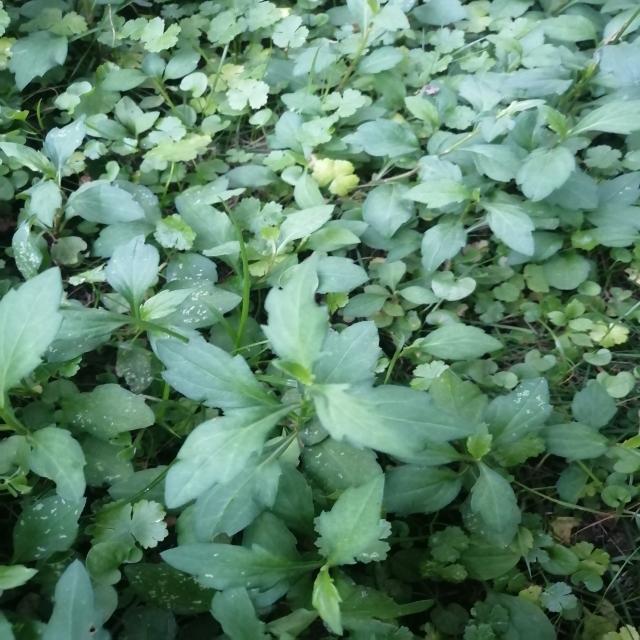Indian aster: (151, 300, 459, 541)
